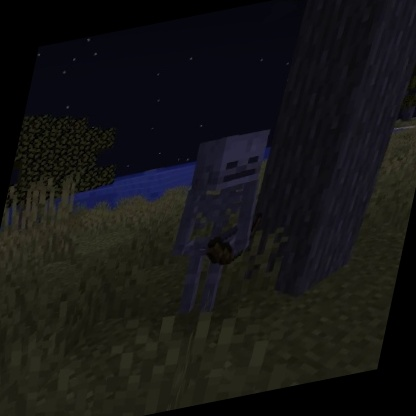skeleton: (153, 120, 286, 322)
